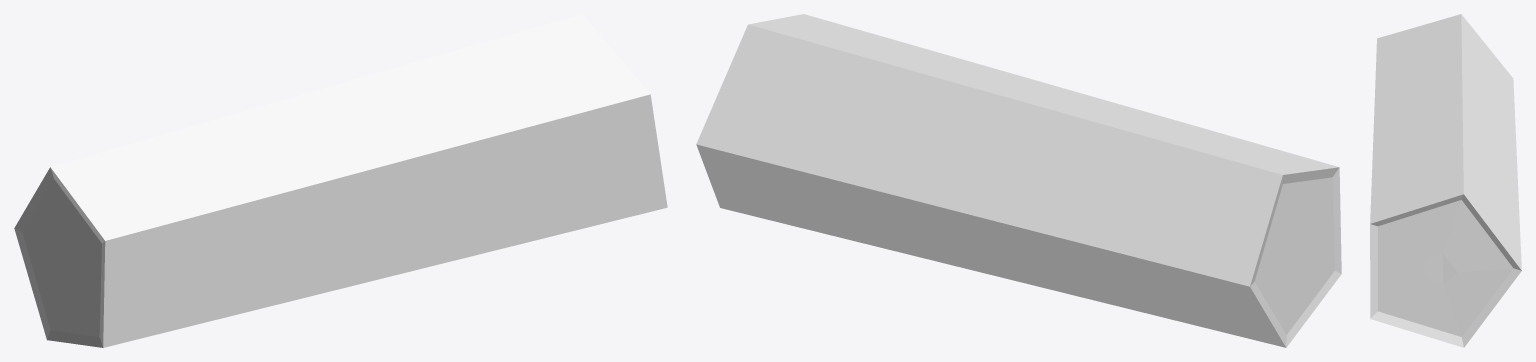
Rendered from tree.log.glb.
3 views of the same model, side by side, from view 1: azimuth 30°, elevation 25°; view 2: azimuth 150°, elevation 25°; view 3: azimuth 270°, elevation 25° (orthographic). The views are drawn at different scales.
Visible parts, largest first — view 1: log.plain; view 2: log.plain; view 3: log.plain.
Boxes of the visible parts, x1,y1,x2,y2 form: log.plain: [14, 14, 667, 347]; log.plain: [696, 14, 1341, 347]; log.plain: [1370, 14, 1521, 347].
Bounding box in the file's own units: 1.07 × 0.3513 × 0.3303.
1 material, 1 textured.
